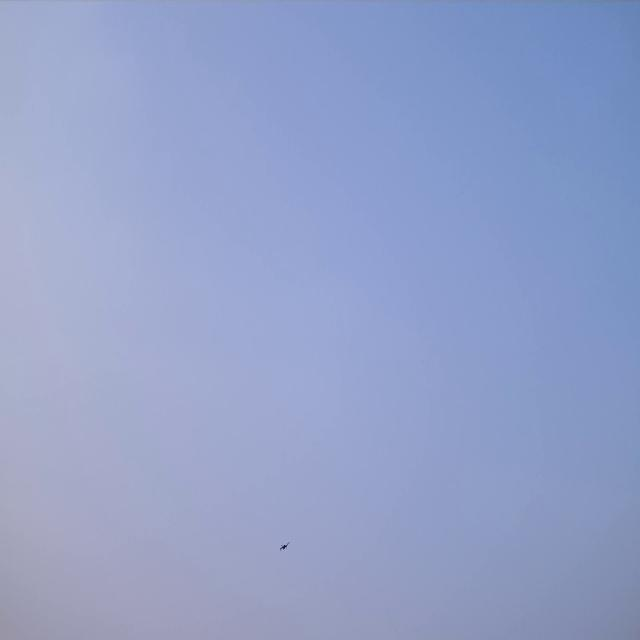UAV: (278, 540, 290, 552)
